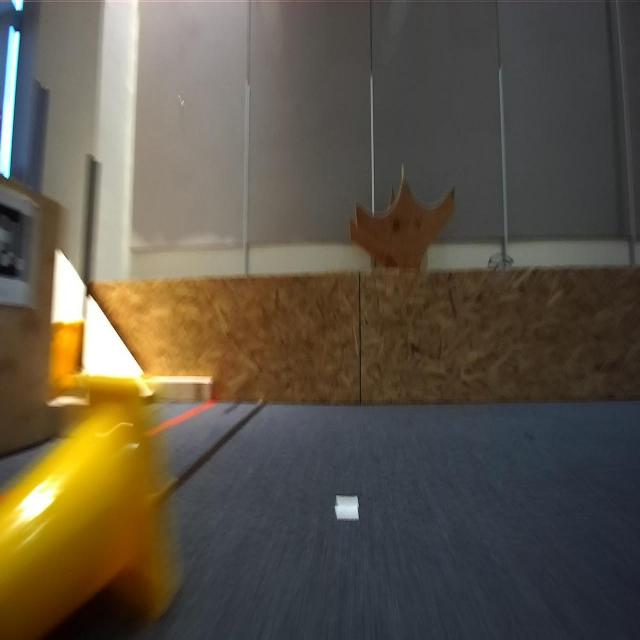frc_cone: (0, 378, 170, 636), (48, 319, 82, 392)
